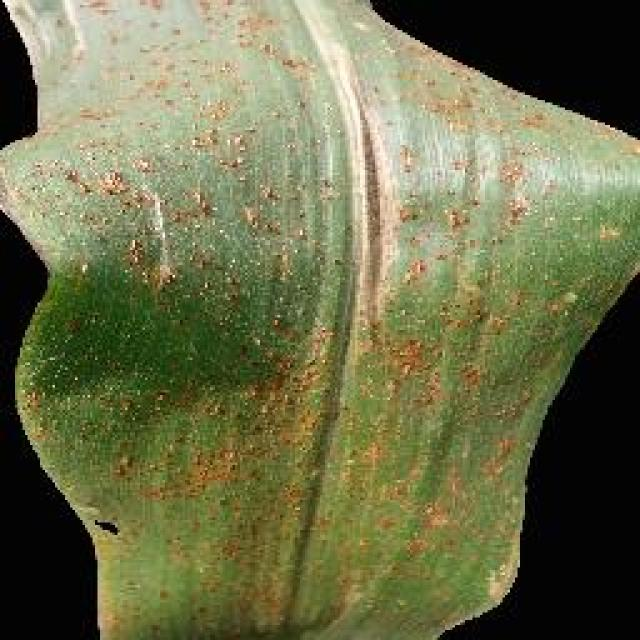Corn Common Rust: (33, 1, 529, 640)
